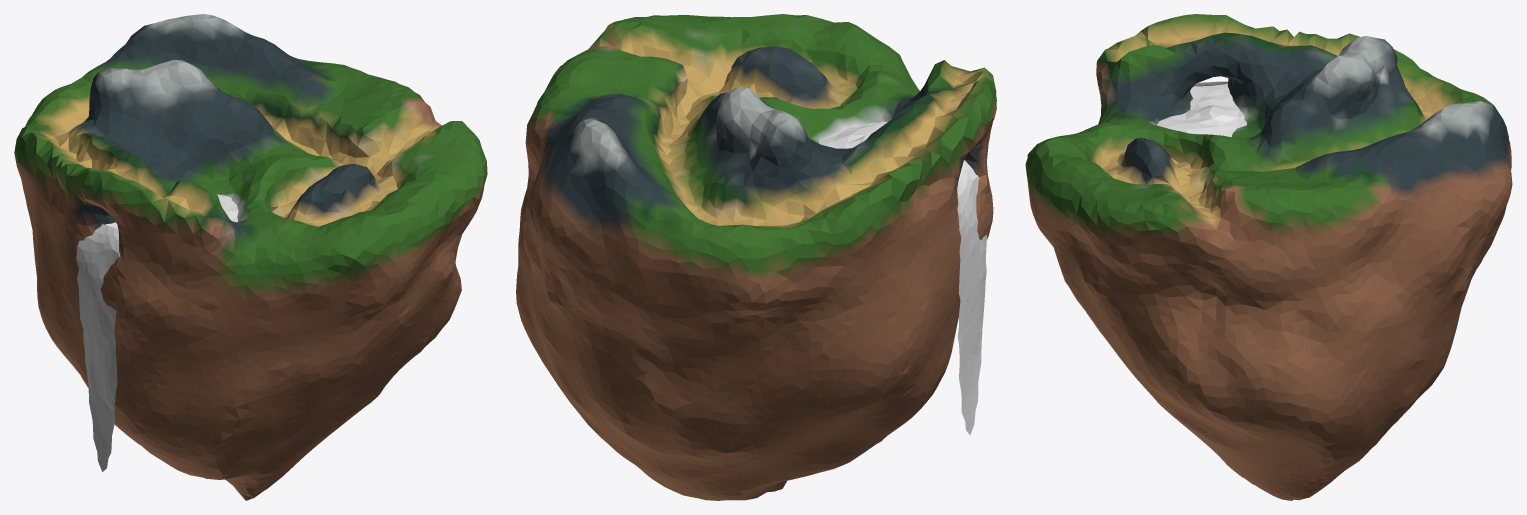
The model's file is Island1.fbx.
3 views of the same model, side by side, from view 1: azimuth 30°, elevation 25°; view 2: azimuth 150°, elevation 25°; view 3: azimuth 270°, elevation 25° (orthographic). The views are drawn at different scales.
Visible parts, largest first — view 1: Icosphere, Plane; view 2: Icosphere, Plane; view 3: Icosphere, Plane.
Boxes of the visible parts, left/top/right/bottom form: Icosphere: left=14, top=14, right=487, bottom=500; Plane: left=76, top=194, right=238, bottom=471; Icosphere: left=516, top=14, right=996, bottom=500; Plane: left=819, top=121, right=986, bottom=434; Icosphere: left=1025, top=14, right=1512, bottom=500; Plane: left=1157, top=81, right=1246, bottom=137.
Bounding box in the file's own units: 5739 × 5877 × 6354.
